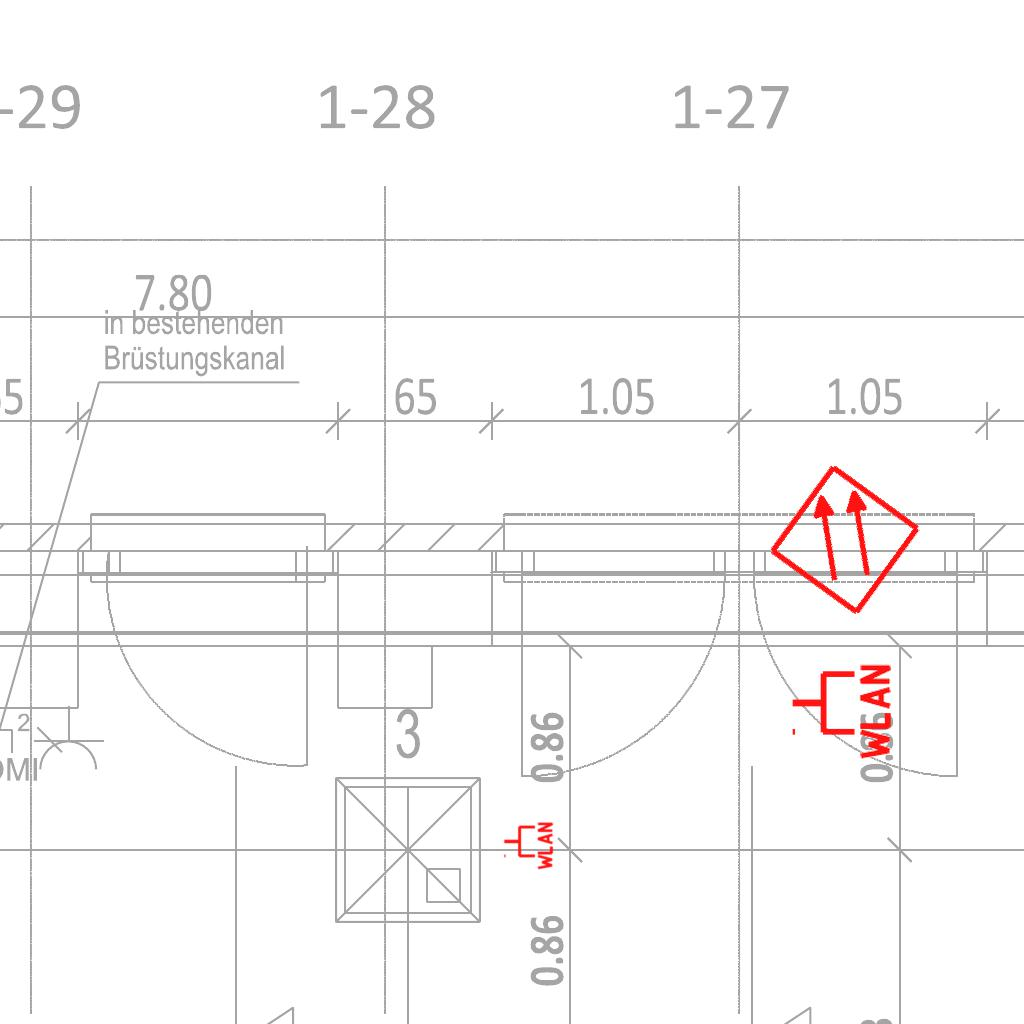RMO_Rauchmelder_optischer: (765, 460, 924, 619)
WLAN: (788, 660, 893, 764), (502, 820, 554, 872)
